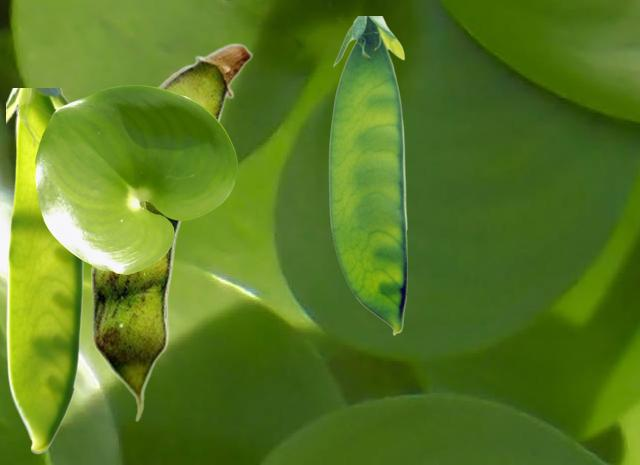pea: (91, 42, 252, 421), (6, 88, 83, 453), (328, 16, 406, 334)
